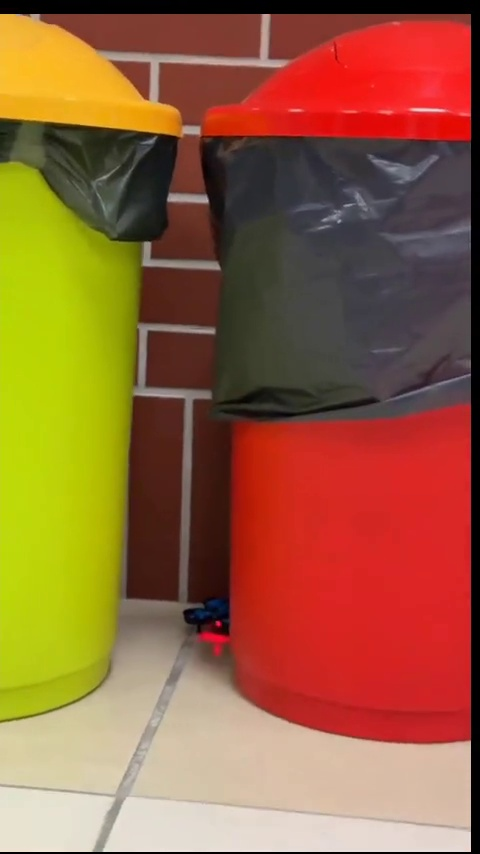drone: (183, 591, 227, 639)
